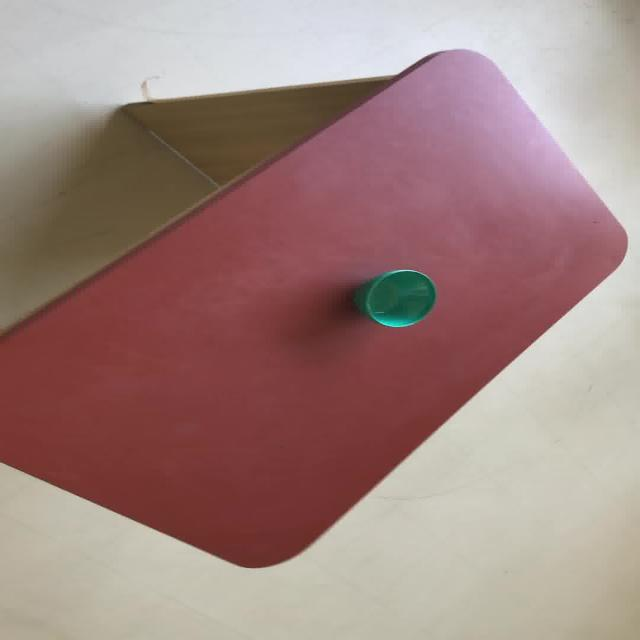bowl: (1, 47, 628, 568), (352, 268, 436, 327)
